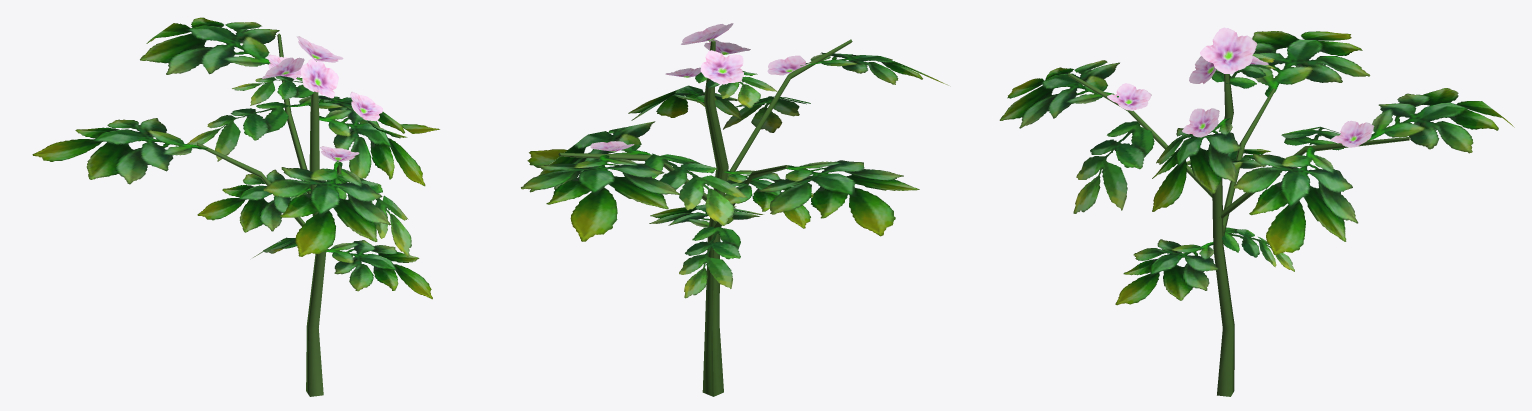
The model's file is guan_mu_013_a.FBX.
3 renders of one model, left to right at view 1: azimuth 30°, elevation 25°; view 2: azimuth 150°, elevation 25°; view 3: azimuth 270°, elevation 25°, orthographic. The views are drawn at different scales.
Visible parts, largest first — view 1: guan_mu_013_a; view 2: guan_mu_013_a; view 3: guan_mu_013_a.
Boxes of the visible parts, x1,y1,x2,y2 form: guan_mu_013_a: (32,17,439,396); guan_mu_013_a: (521,23,948,396); guan_mu_013_a: (999,27,1514,396).
Bounding box in the file's own units: 161 × 131 × 173.
